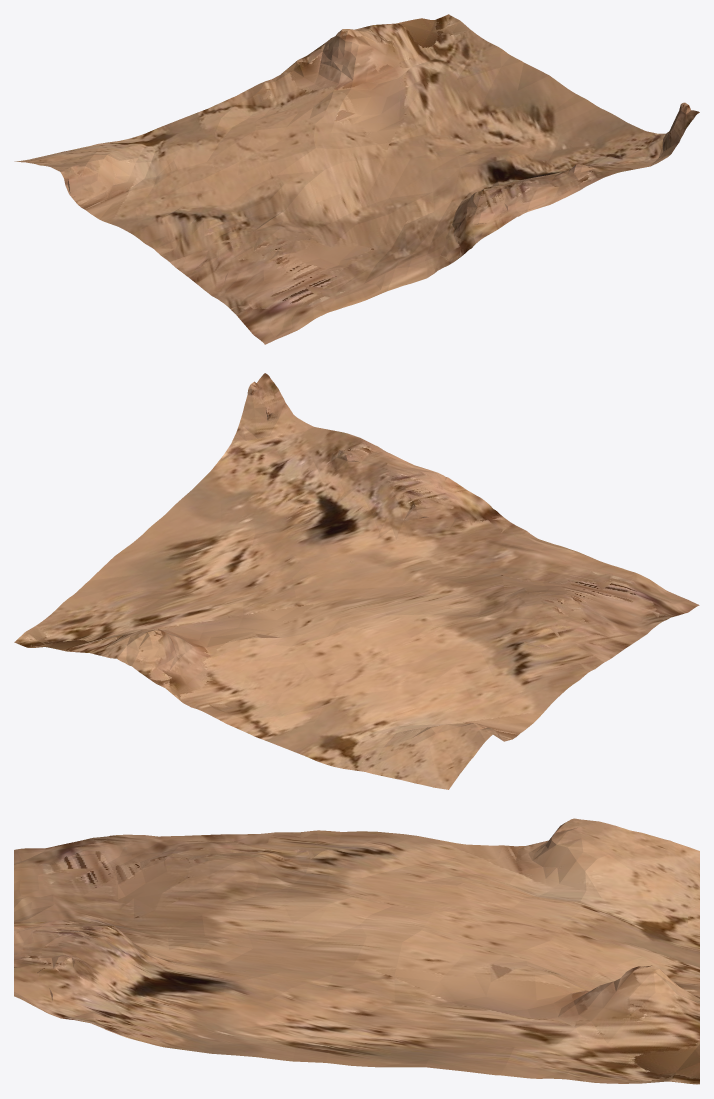
3 renders of one model, top to bottom at view 1: azimuth 30°, elevation 25°; view 2: azimuth 150°, elevation 25°; view 3: azimuth 270°, elevation 25°, orthographic. The views are drawn at different scales.
Size of the model in its own units: 1.04 by 0.3029 by 1.04.
2 materials, 2 textured.
